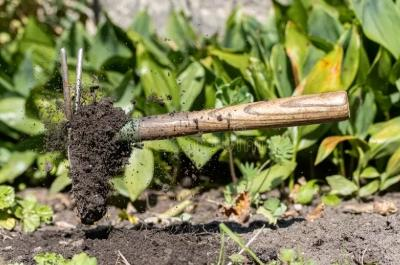HOUE: (59, 43, 353, 228)
